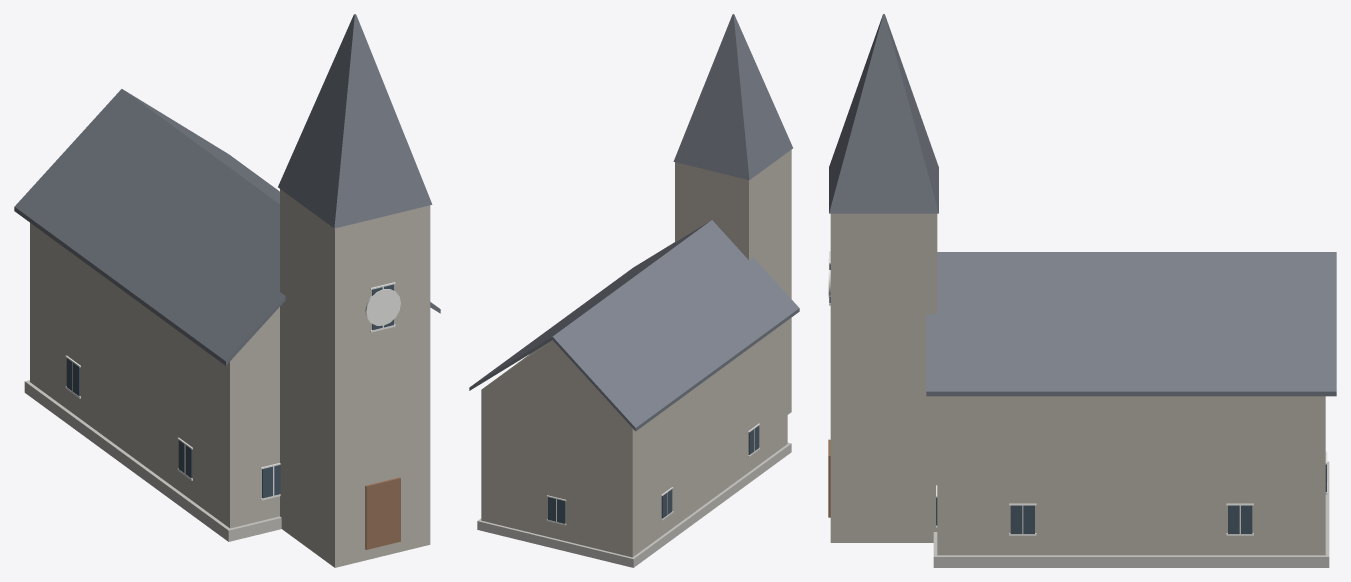
The model's file is church.glb.
3 views of the same model, side by side, from view 1: azimuth 30°, elevation 25°; view 2: azimuth 150°, elevation 25°; view 3: azimuth 270°, elevation 25° (orthographic). The views are drawn at different scales.
Parts seen in each view (by area): view 1: church; view 2: church; view 3: church.
Part boxes in pixels (x1=…): church: x1=14, y1=14, x2=440, y2=567; church: x1=469, y1=14, x2=799, y2=567; church: x1=828, y1=14, x2=1336, y2=567.
Size of the model in its own units: 9.9 by 23 by 20.94.
